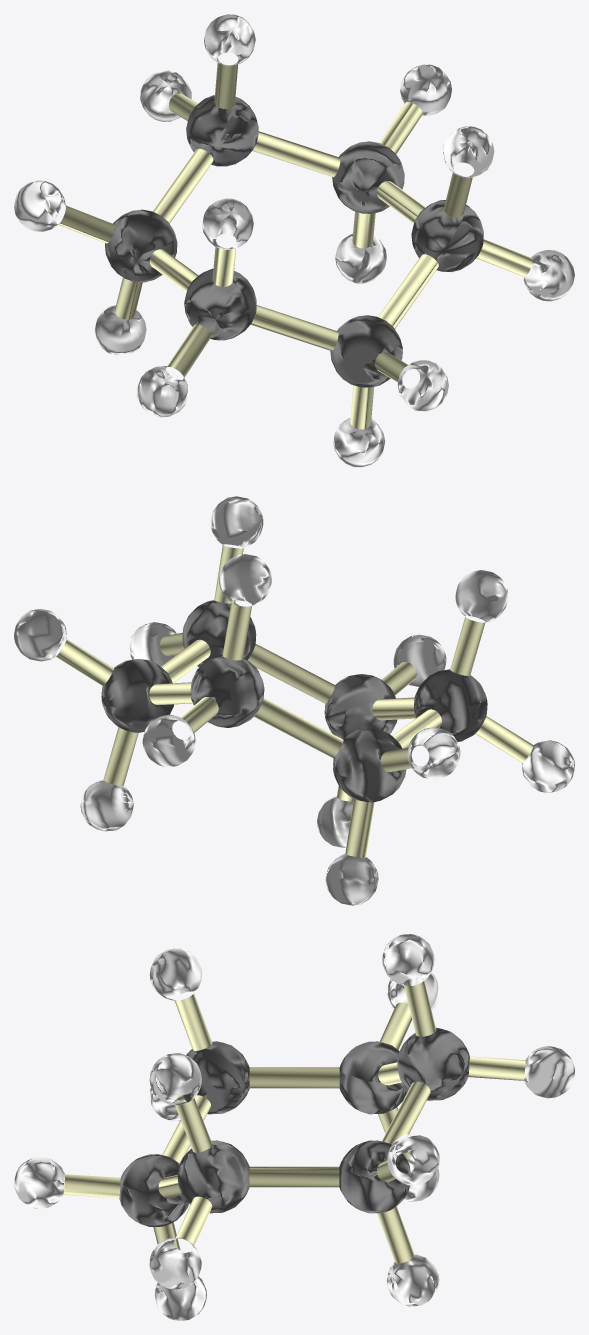
The model's file is cyclohexane_chair.gltf.
3 views of the same model, one above another, from view 1: azimuth 30°, elevation 25°; view 2: azimuth 150°, elevation 25°; view 3: azimuth 270°, elevation 25° (orthographic).
Parts seen in each view (by area): view 1: ?????????1; view 2: ?????????1; view 3: ?????????1.
Boxes of the visible parts, <box> form: ?????????1: <box>14,14,574,467</box>; ?????????1: <box>14,496,574,905</box>; ?????????1: <box>14,934,574,1320</box>.
Size of the model in its own units: 48.39 by 39.15 by 53.36.
